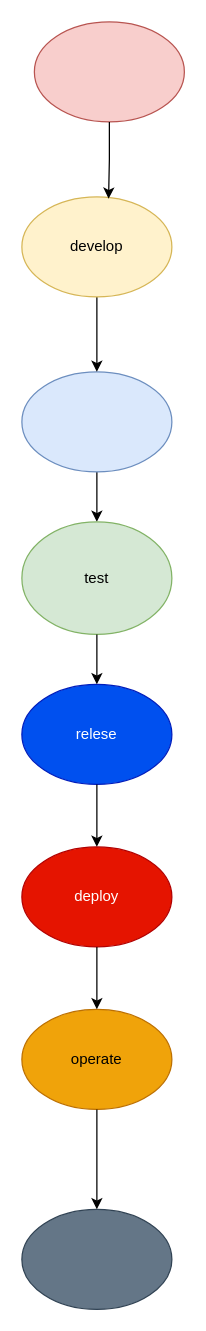
Image size: 206x1331. Some labels were removed from this diagram. Here are the shapes that lost their labels. From the top down, the centre of each, then its label:
At point 108,71: "plan".
At point 96,421: "build".
At point 96,1258: "moniter".
